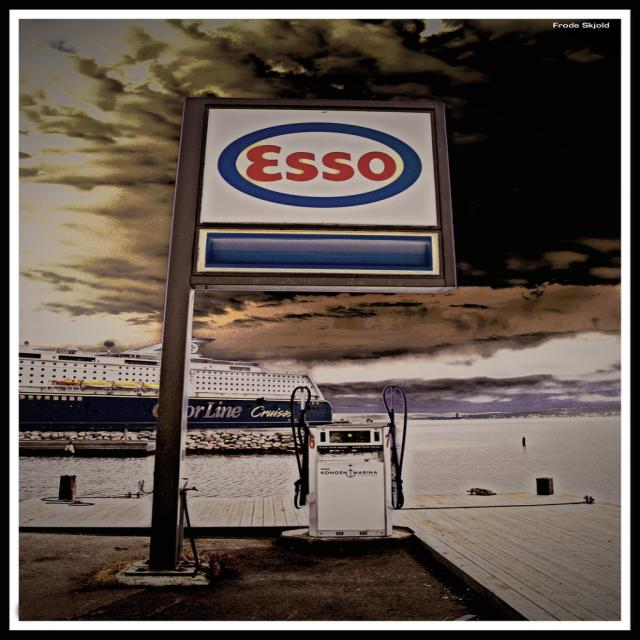esso: (213, 119, 431, 213)
